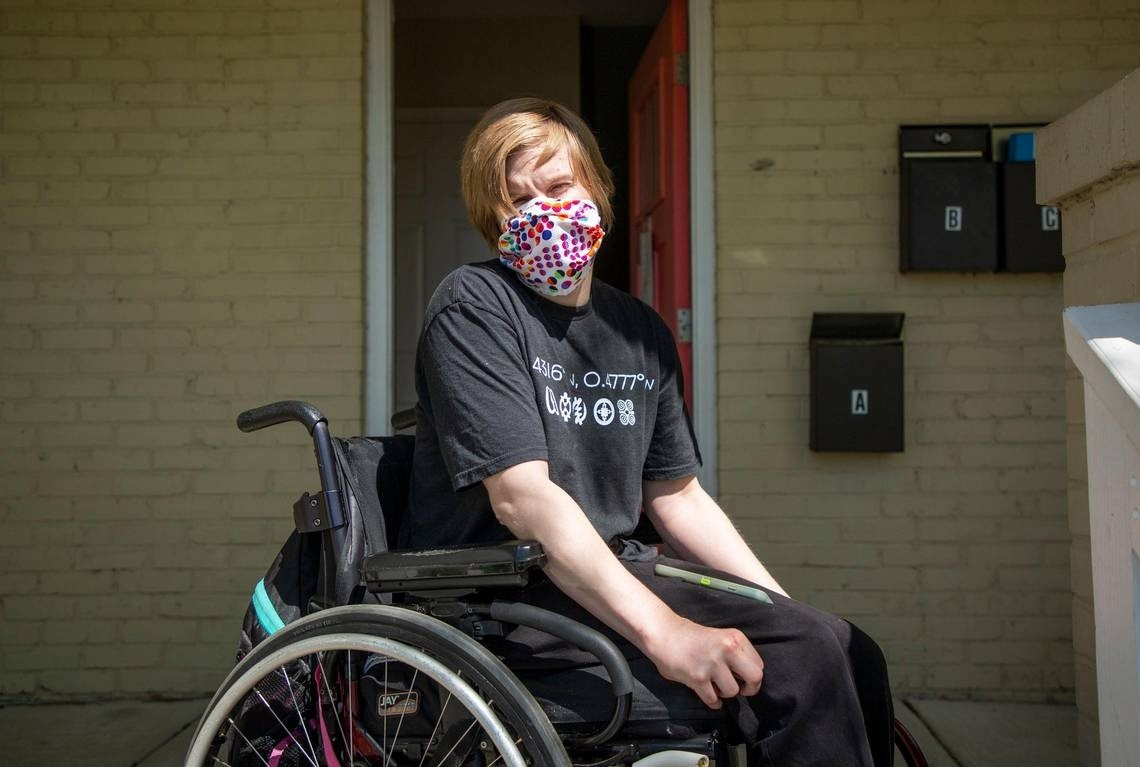face_with_mask: (461, 102, 610, 287)
